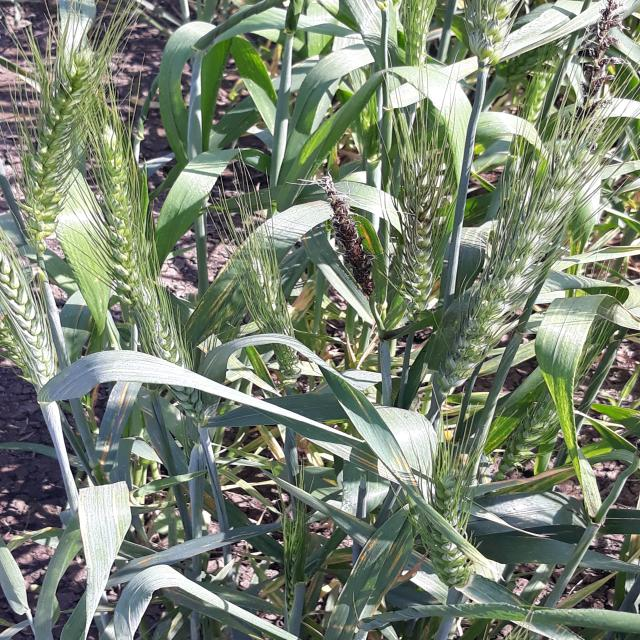loose_charred: (282, 171, 427, 338)
yellow_rust: (319, 518, 418, 638), (185, 245, 264, 335), (89, 382, 150, 481), (314, 440, 422, 489), (477, 462, 581, 501), (239, 550, 297, 614), (272, 273, 332, 325), (254, 36, 306, 88), (230, 426, 296, 463), (320, 119, 352, 170), (473, 446, 503, 487), (425, 278, 450, 313), (128, 553, 174, 569), (617, 534, 640, 566)
